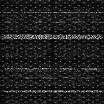lte: (1, 33, 104, 39), (1, 67, 104, 70), (1, 10, 104, 13), (1, 89, 103, 92)
